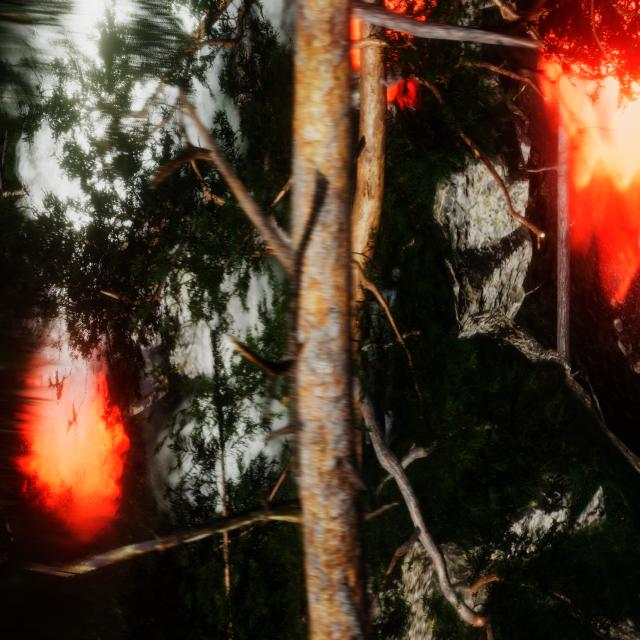Human: (361, 224, 404, 466)
